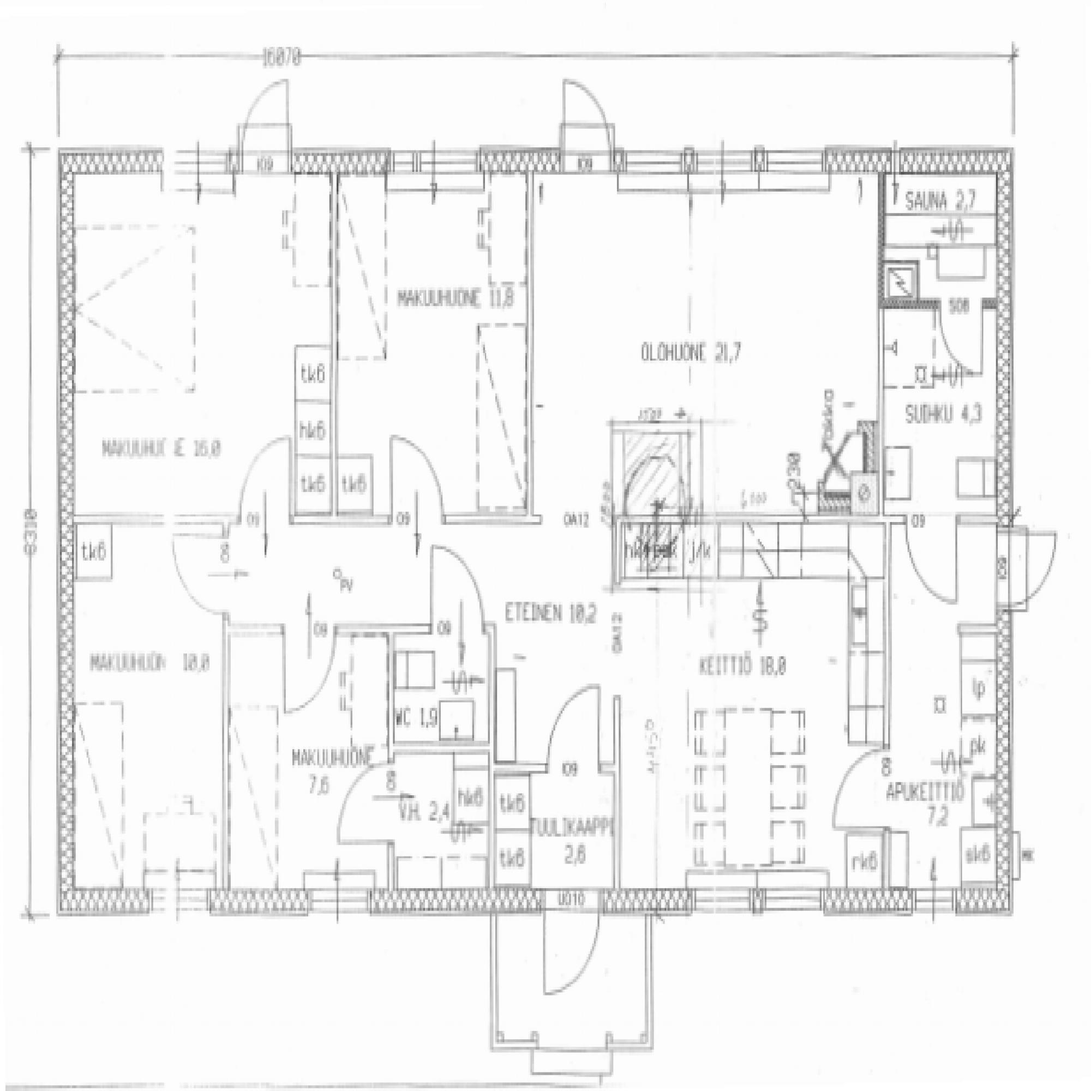wall: (58, 146, 1013, 174), (58, 889, 1013, 914), (997, 146, 1013, 915), (58, 148, 74, 914), (58, 515, 543, 524), (614, 514, 1013, 522), (884, 515, 890, 915), (331, 148, 337, 524), (878, 147, 884, 522), (526, 147, 532, 515), (224, 625, 496, 633), (224, 515, 229, 915), (490, 625, 496, 915), (388, 625, 394, 915), (878, 299, 1013, 309), (614, 697, 620, 915), (490, 764, 620, 773), (388, 744, 495, 753), (960, 625, 1013, 635), (614, 514, 620, 585)
